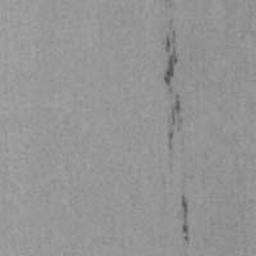Inclusion: (164, 29, 184, 151), (180, 193, 191, 242), (164, 0, 174, 10)
